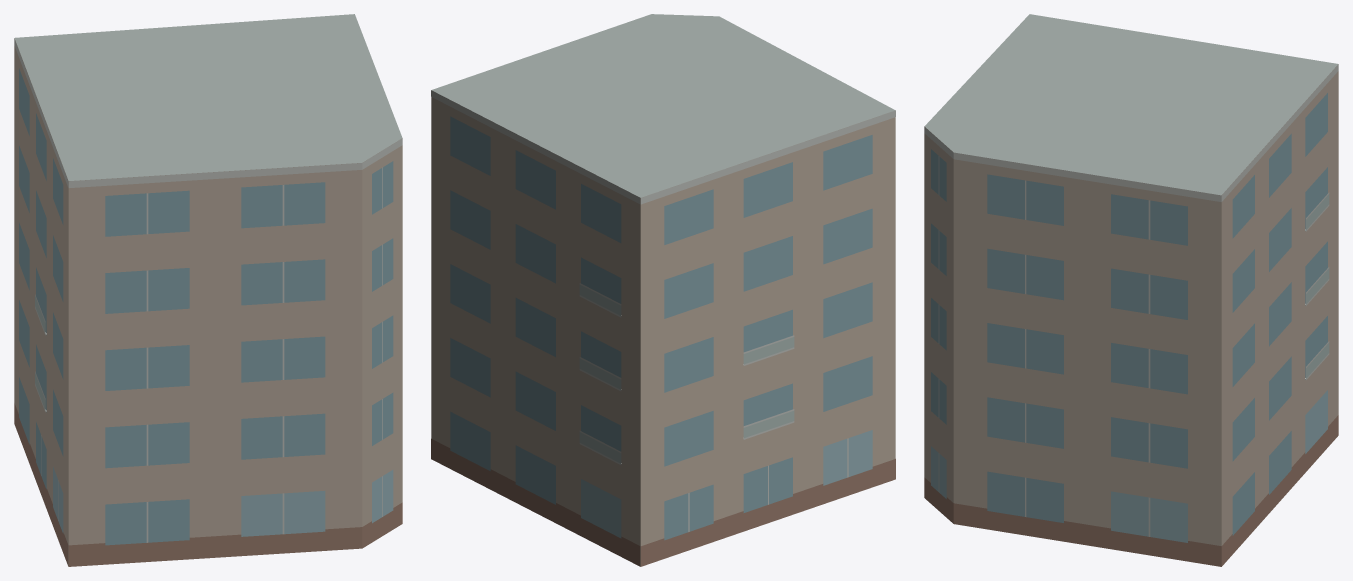
The model's file is survey-upis-32871855.glb.
3 views of the same model, side by side, from view 1: azimuth 30°, elevation 25°; view 2: azimuth 150°, elevation 25°; view 3: azimuth 270°, elevation 25° (orthographic). The views are drawn at different scales.
Visible parts, largest first — view 1: survey-upis-32871855.tmp; view 2: survey-upis-32871855.tmp; view 3: survey-upis-32871855.tmp.
Boxes of the visible parts, box(x1,y1,x2,y2) form: survey-upis-32871855.tmp: box(14, 14, 402, 566); survey-upis-32871855.tmp: box(431, 14, 895, 566); survey-upis-32871855.tmp: box(924, 14, 1338, 566).
Bounding box in the file's own units: 13.99 × 13.35 × 13.5.
